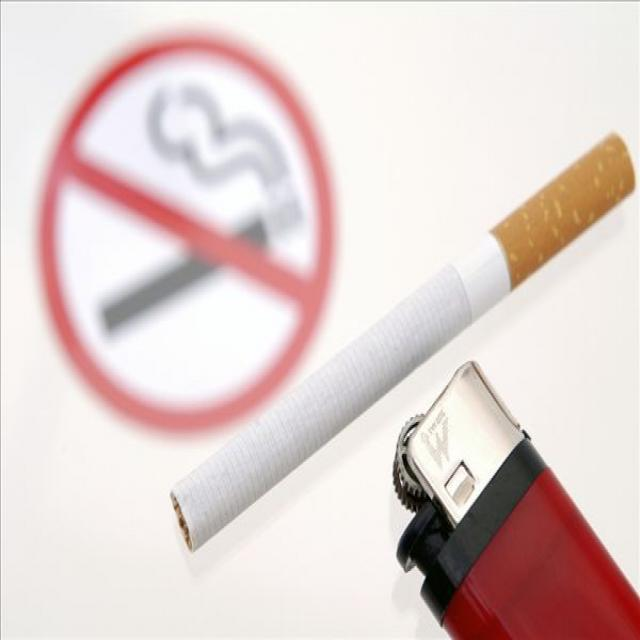smoking: (170, 129, 630, 554)
